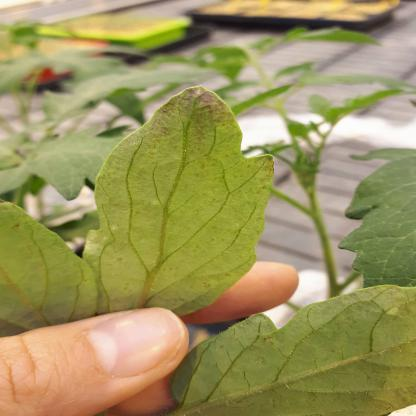Tomato mold leaf: (76, 78, 284, 336)
